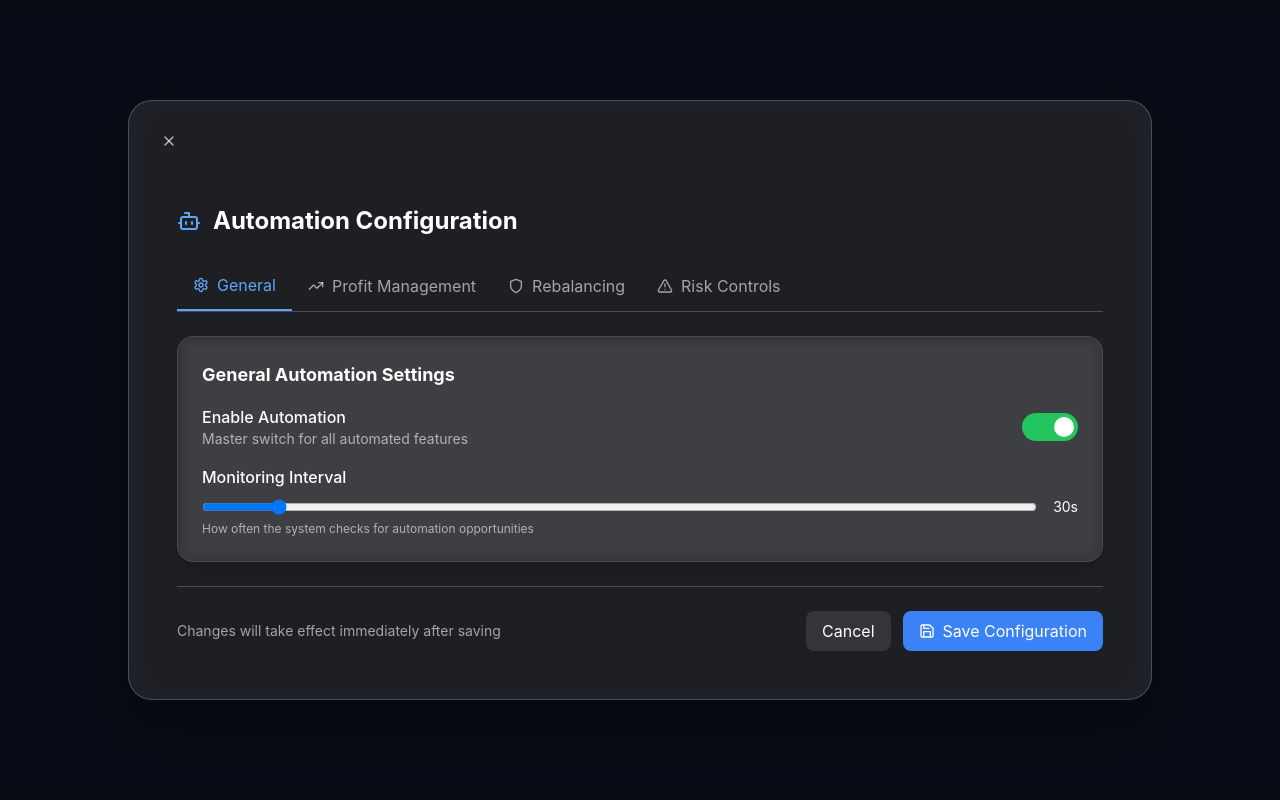
Test: AutomationConfigPanel › displays rebalancing settings
Click the button "Rebalancing". click: [567, 286]
box: [492, 261, 641, 311]
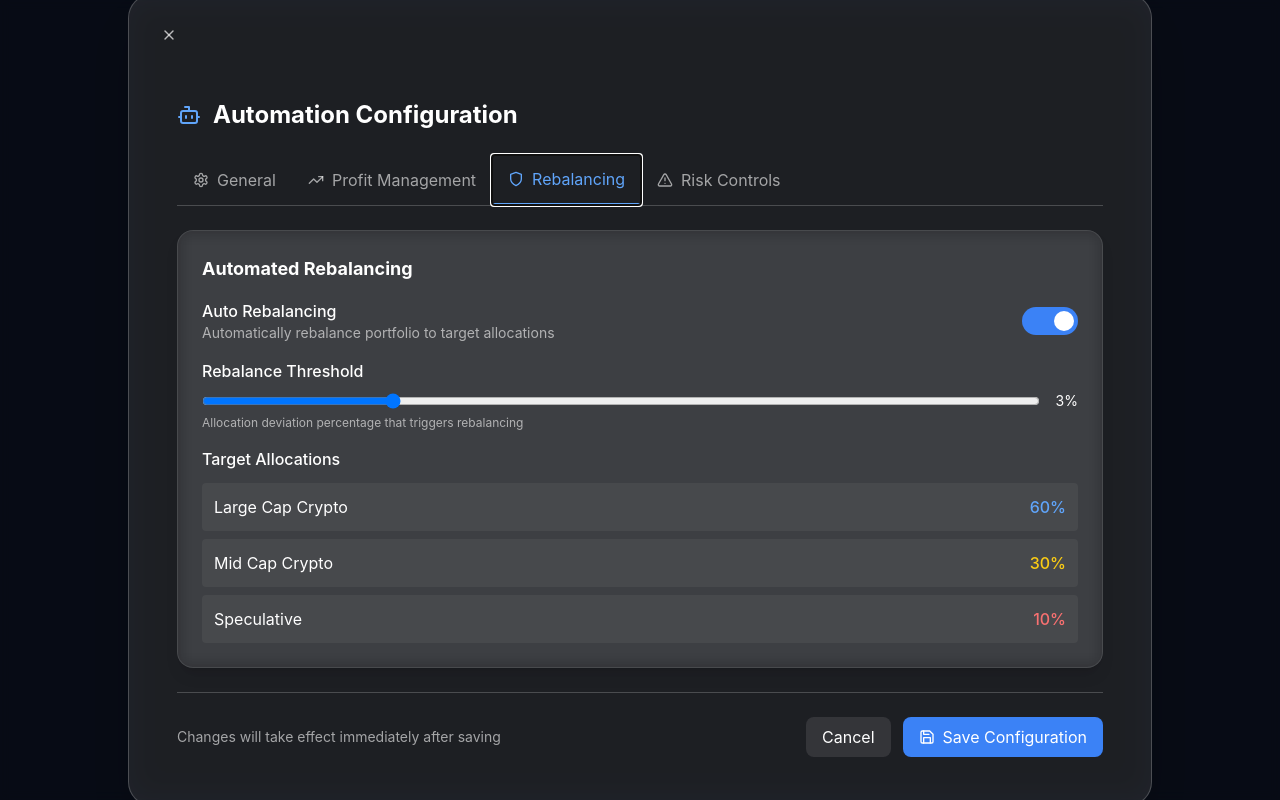
Now the heading "Automated Rebalancing" is shown, box [202, 258, 413, 279]
Now the text "Auto Rebalancing" is shown, box [202, 301, 336, 321]
Now the text "Rebalance Threshold" is shown, box [202, 361, 364, 381]
